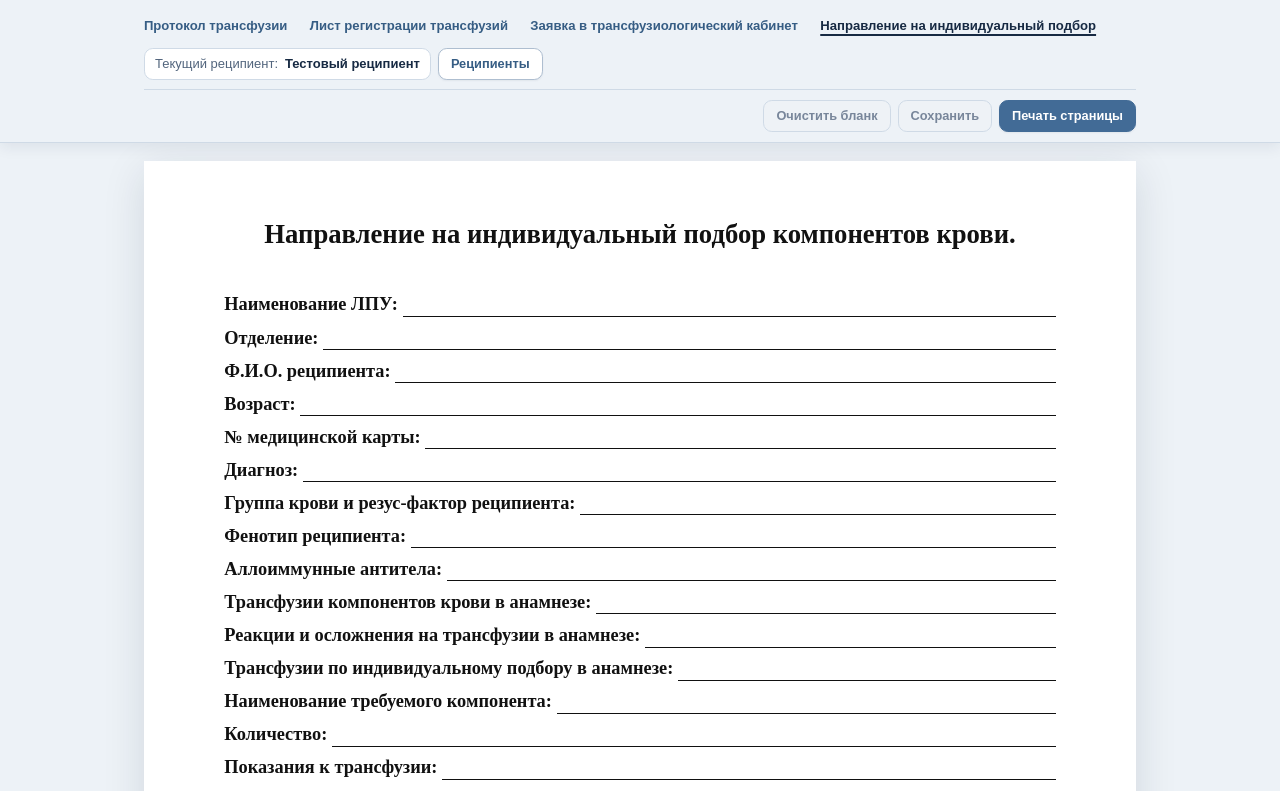
Test case: edits the organization name and patient data in one dialog
The width and height of the screenshot is (1280, 791).
What coordinates should you click on to do the following:
click the text "Наименование ЛПУ:"
I would click on:
 (311, 300)
Its box is [224,284,398,317].
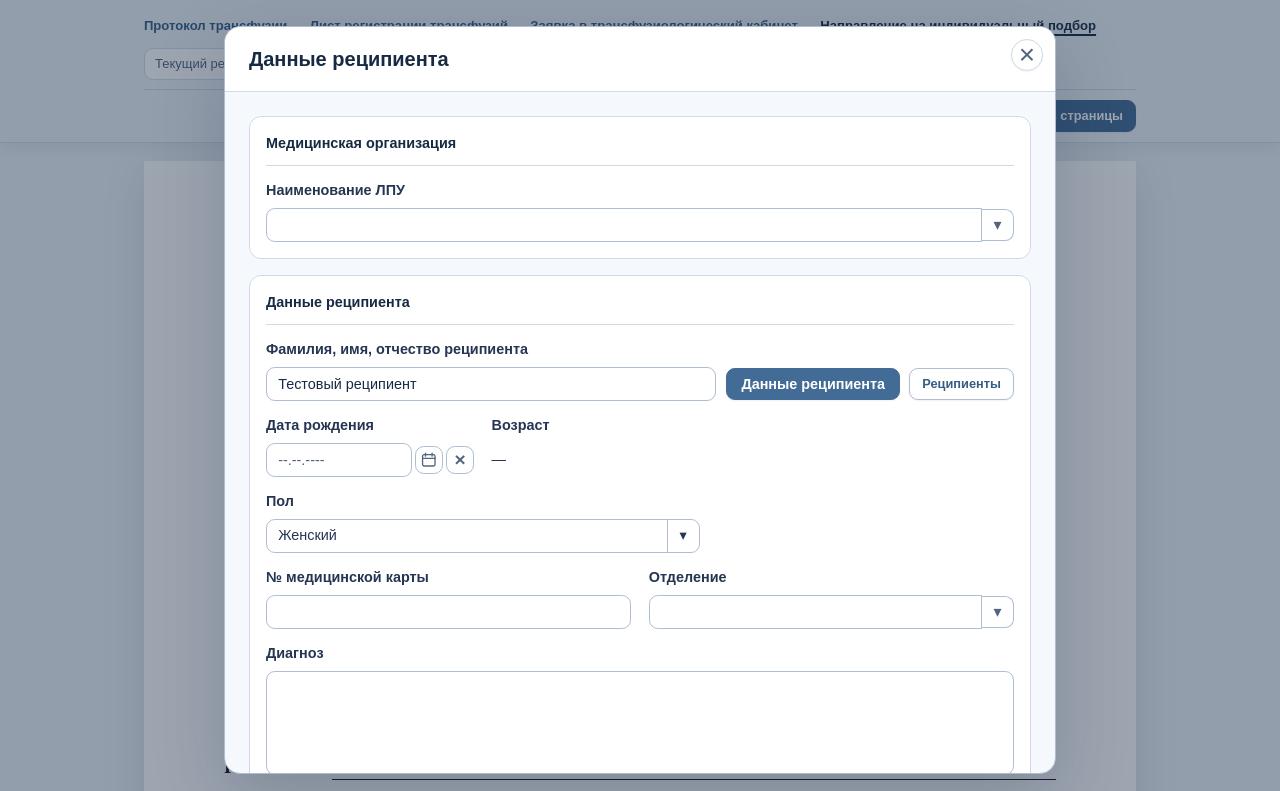
Expected: the field named "Наименование ЛПУ" is shown, [266,208,982,242]
Expected: the field named "Отделение" is shown, [649,595,982,629]
